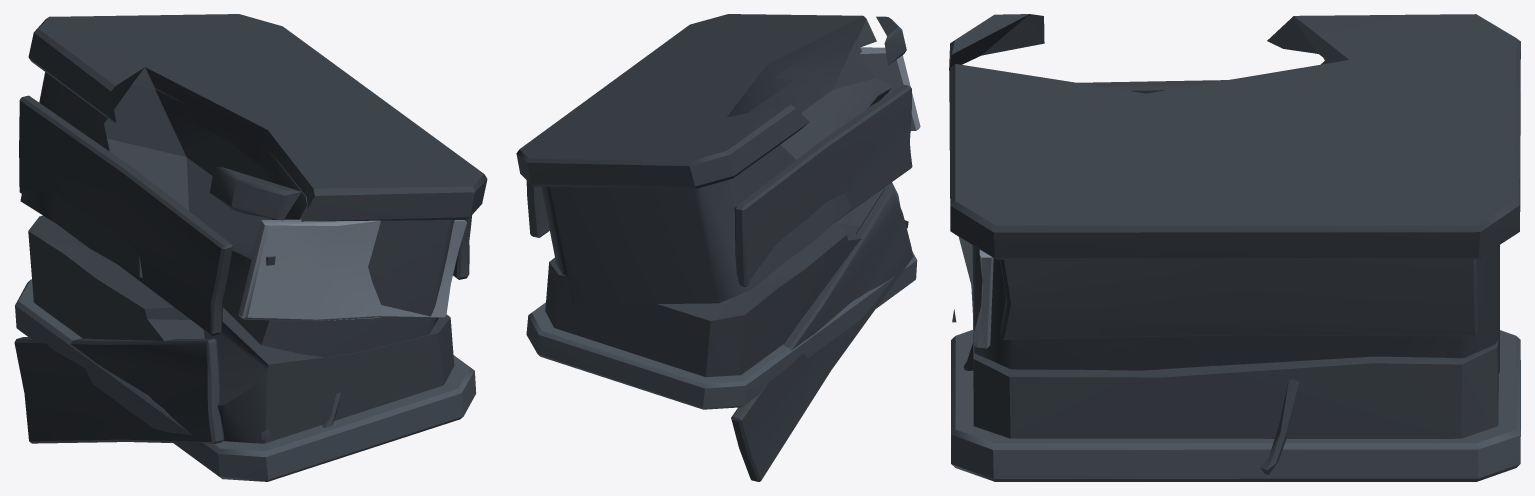
The model's file is shr_deb_generic_block_steel_a.glb.
The picture shows the model from 3 angles, left to right: view 1: azimuth 30°, elevation 25°; view 2: azimuth 150°, elevation 25°; view 3: azimuth 270°, elevation 25°; orthographic projection. The views are drawn at different scales.
Visible parts, largest first — view 1: frag_05, husk, frag_01, frag_03, frag_02; view 2: frag_05, husk, frag_01, frag_03, frag_02; view 3: frag_05, husk, frag_02, frag_01.
Part boxes in pixels (<box>): frag_05: <box>20,14,487,357</box>; husk: <box>15,215,476,481</box>; frag_01: <box>19,95,232,335</box>; frag_03: <box>14,337,224,443</box>; frag_02: <box>453,215,471,279</box>; frag_05: <box>516,14,920,305</box>; husk: <box>526,182,917,409</box>; frag_01: <box>734,84,912,287</box>; frag_03: <box>731,188,913,481</box>; frag_02: <box>526,180,549,237</box>; frag_05: <box>949,14,1520,373</box>; husk: <box>951,309,1520,481</box>; frag_02: <box>1000,259,1478,339</box>; frag_01: <box>1077,80,1226,93</box>.
Size of the model in its own units: 0.5371 by 0.7323 by 0.7999.
